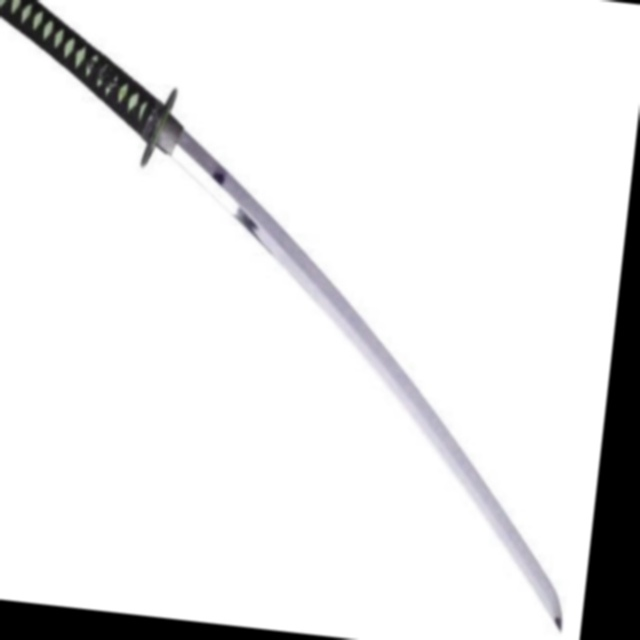Sharp-Object: (0, 0, 634, 635)
